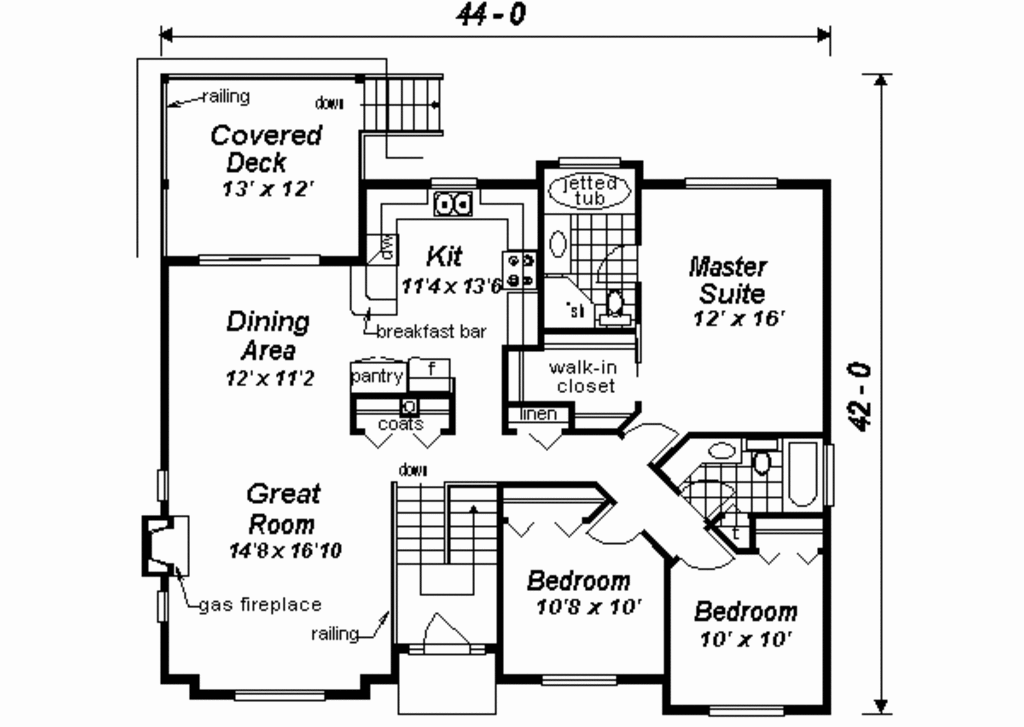door: (667, 521, 745, 579), (588, 495, 651, 551), (620, 413, 680, 464), (415, 608, 476, 658)
large_sink: (742, 430, 781, 481), (599, 289, 632, 323)
small_sink: (543, 219, 576, 276), (694, 436, 741, 466)
stairs: (389, 473, 497, 607), (344, 73, 461, 140)
tub: (783, 425, 826, 510)
twin_sink: (423, 186, 482, 223)
window: (183, 249, 329, 277), (233, 682, 326, 705), (707, 698, 781, 721), (682, 175, 776, 193), (819, 442, 841, 508), (538, 671, 617, 689), (152, 463, 180, 509)
